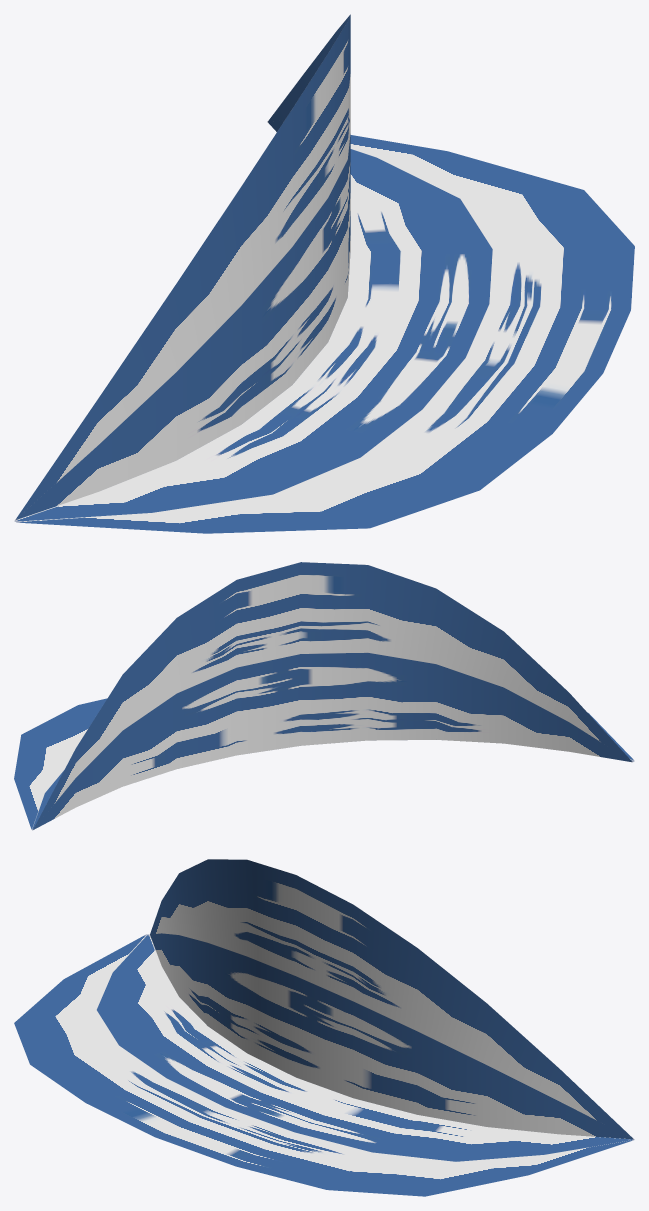
File: Ring_RuiSkl3_2.fbx
3 renders of one model, top to bottom at view 1: azimuth 30°, elevation 25°; view 2: azimuth 150°, elevation 25°; view 3: azimuth 270°, elevation 25°, orthographic. The views are drawn at different scales.
Parts seen in each view (by area): view 1: SM_e_Plc_P1007_AtkSkl03_Ring002; view 2: SM_e_Plc_P1007_AtkSkl03_Ring002; view 3: SM_e_Plc_P1007_AtkSkl03_Ring002.
Part boxes in pixels (box(x1,y1,x2,y2)): SM_e_Plc_P1007_AtkSkl03_Ring002: box(14, 14, 634, 533); SM_e_Plc_P1007_AtkSkl03_Ring002: box(14, 562, 634, 830); SM_e_Plc_P1007_AtkSkl03_Ring002: box(14, 859, 634, 1196).
Size of the model in its own units: 14.41 by 5.21 by 14.41.
